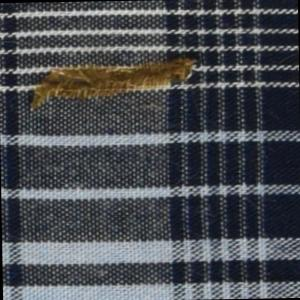Damage: (32, 61, 196, 101)
Oil Stain: (23, 56, 203, 116)
